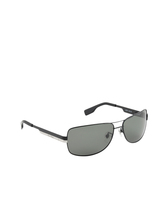glasses: (17, 93, 151, 158)
